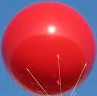Balloon: (2, 3, 95, 94)
